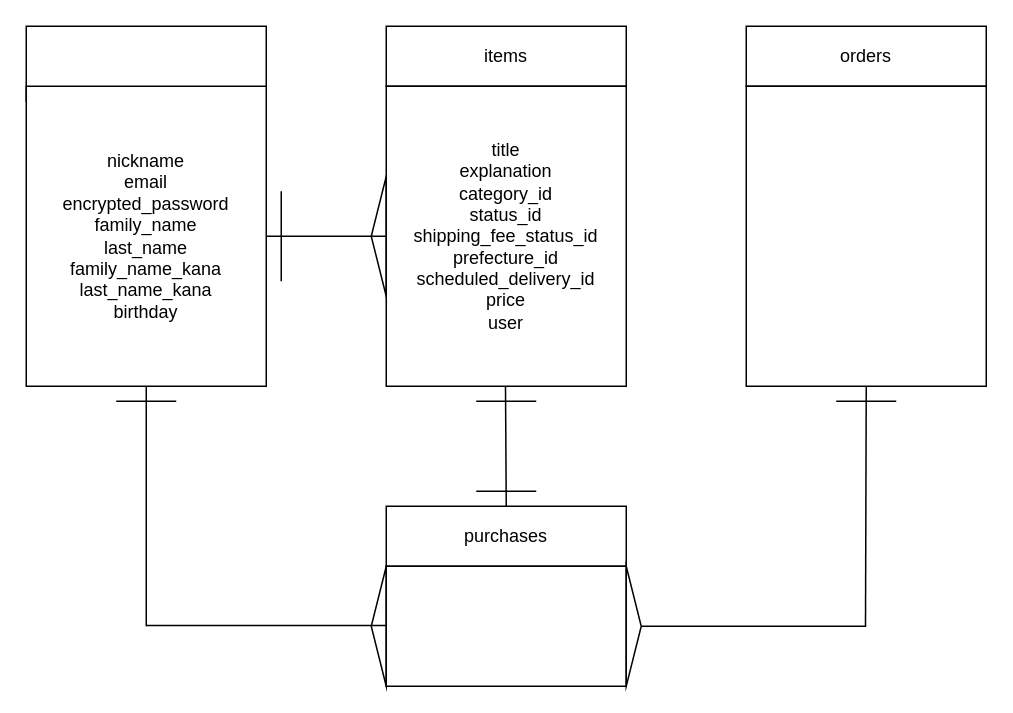
Some shapes in this 1013 by 713 pixel diagram are drawn without their labels. The shapes that lost their labels are listed below. From the top down, each one's centre as x and y in pixels, then its label:
[145,63]: users
[865,235]: post-code prefecture_id city adresses building phone_number purchase_user
[505,625]: item user
